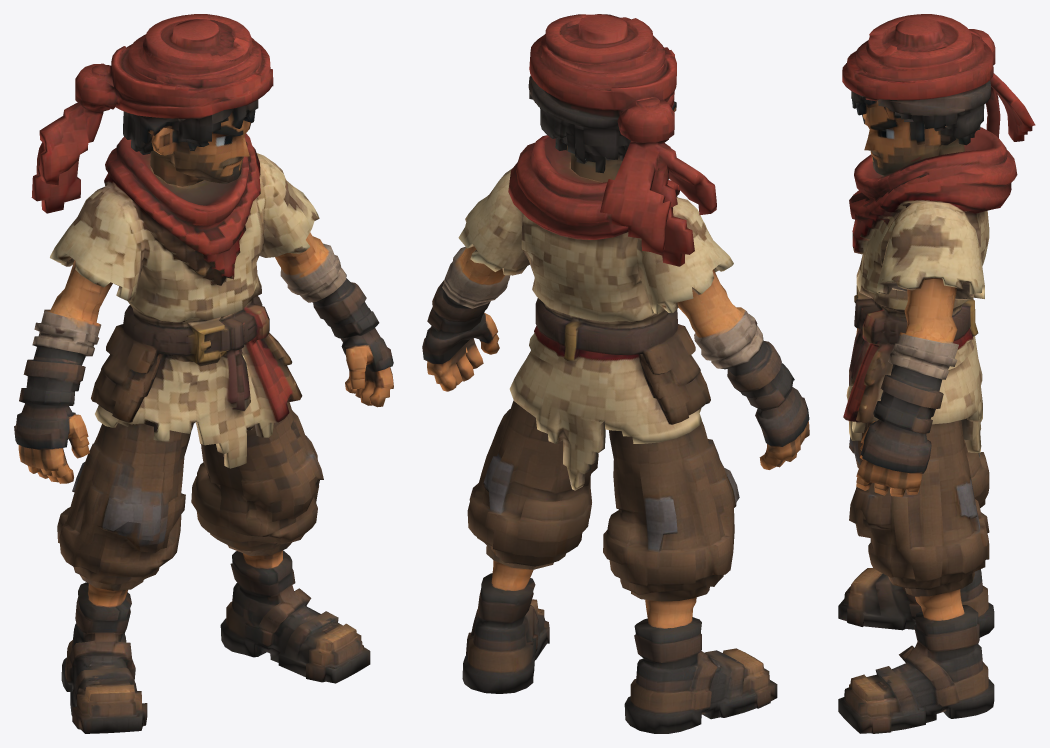
File: bandit1.glb
3 views of the same model, side by side, from view 1: azimuth 30°, elevation 25°; view 2: azimuth 150°, elevation 25°; view 3: azimuth 270°, elevation 25° (orthographic). The views are drawn at different scales.
Parts seen in each view (by area): view 1: tripo_node_d377e9d1-75d1-4a10-a74a-1aef462ee67b; view 2: tripo_node_d377e9d1-75d1-4a10-a74a-1aef462ee67b; view 3: tripo_node_d377e9d1-75d1-4a10-a74a-1aef462ee67b.
Boxes of the visible parts, x1,y1,x2,y2 form: tripo_node_d377e9d1-75d1-4a10-a74a-1aef462ee67b: [14, 14, 393, 733]; tripo_node_d377e9d1-75d1-4a10-a74a-1aef462ee67b: [422, 14, 809, 733]; tripo_node_d377e9d1-75d1-4a10-a74a-1aef462ee67b: [838, 14, 1035, 733].
Bounding box in the file's own units: 0.5845 × 0.9995 × 0.2798.
1 material, 1 textured.
